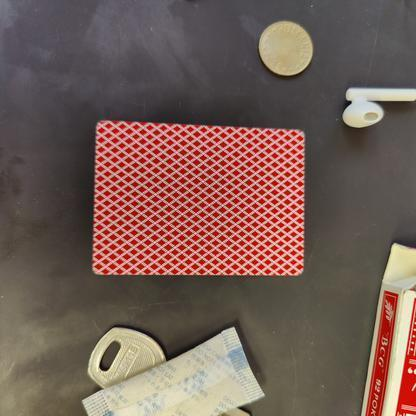card: (86, 117, 310, 282)
